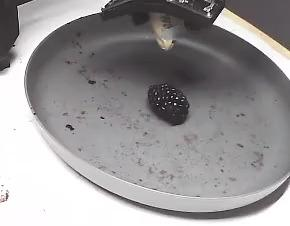berry: (148, 84, 188, 125)
